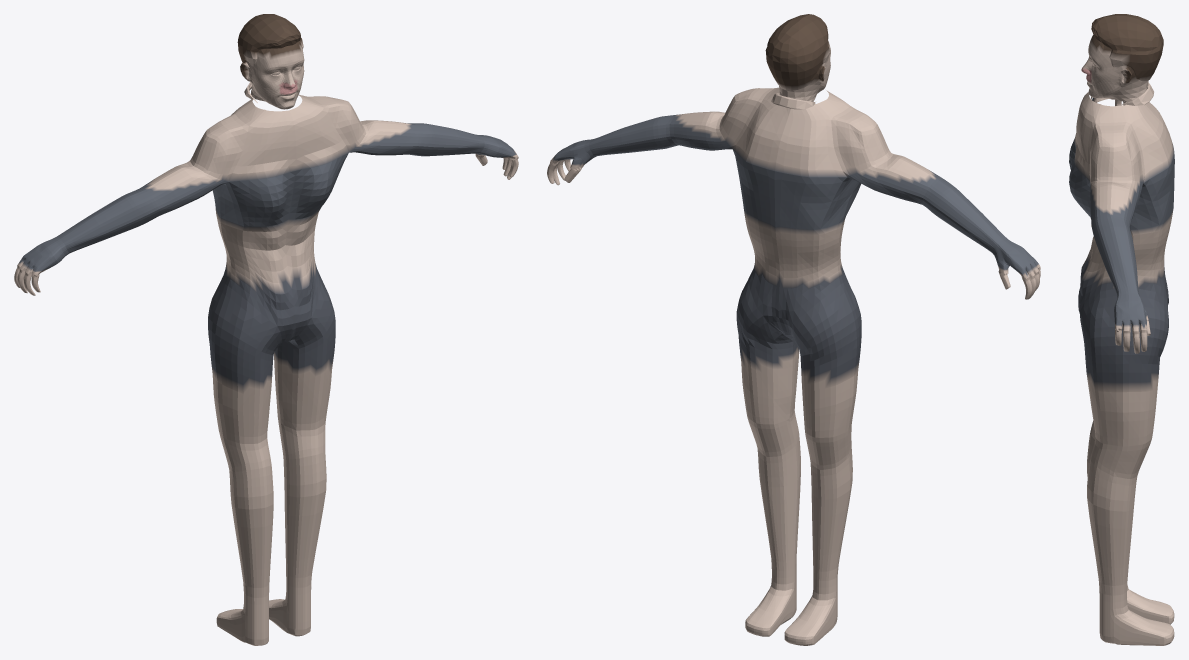
Rendered from canonical_female.glb.
3 renders of one model, left to right at view 1: azimuth 30°, elevation 25°; view 2: azimuth 150°, elevation 25°; view 3: azimuth 270°, elevation 25°, orthographic. The views are drawn at different scales.
Parts seen in each view (by area): view 1: geometry_0; view 2: geometry_0; view 3: geometry_0.
Boxes of the visible parts, x1,y1,x2,y2 form: geometry_0: (14,14,518,645); geometry_0: (547,14,1040,645); geometry_0: (1069,14,1174,645).
Bounding box in the file's own units: 139 × 165 × 25.83.
